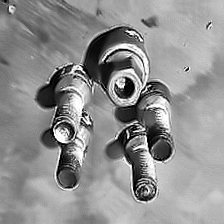tiny_holes: (5, 3, 20, 16), (204, 20, 215, 32), (183, 64, 193, 74)
